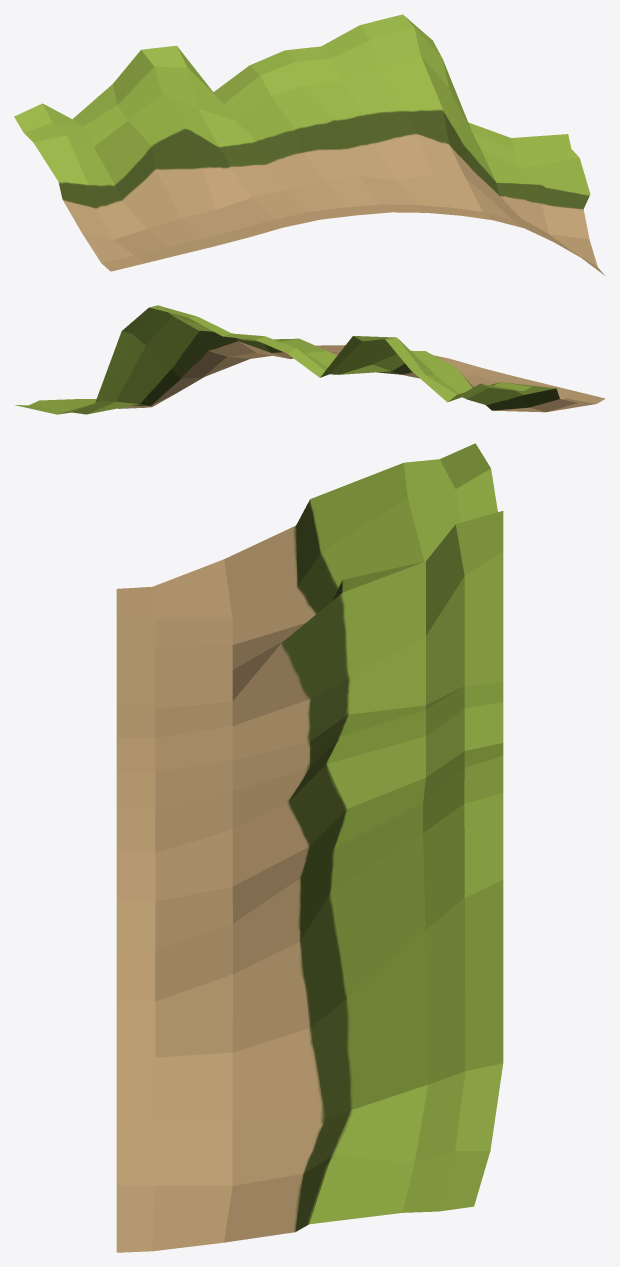
The model's file is planeDown.fbx.
3 views of the same model, one above another, from view 1: azimuth 30°, elevation 25°; view 2: azimuth 150°, elevation 25°; view 3: azimuth 270°, elevation 25° (orthographic). The views are drawn at different scales.
Visible parts, largest first — view 1: pPlane18; view 2: pPlane18; view 3: pPlane18.
Part boxes in pixels (x1,y1,x2,y2): pPlane18: (14, 14, 605, 276); pPlane18: (15, 305, 605, 414); pPlane18: (116, 443, 503, 1252).
Size of the model in its own units: 43.66 by 17.7 by 14.54.
